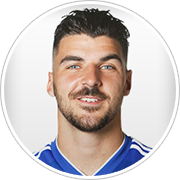face: (45, 46, 133, 129)
